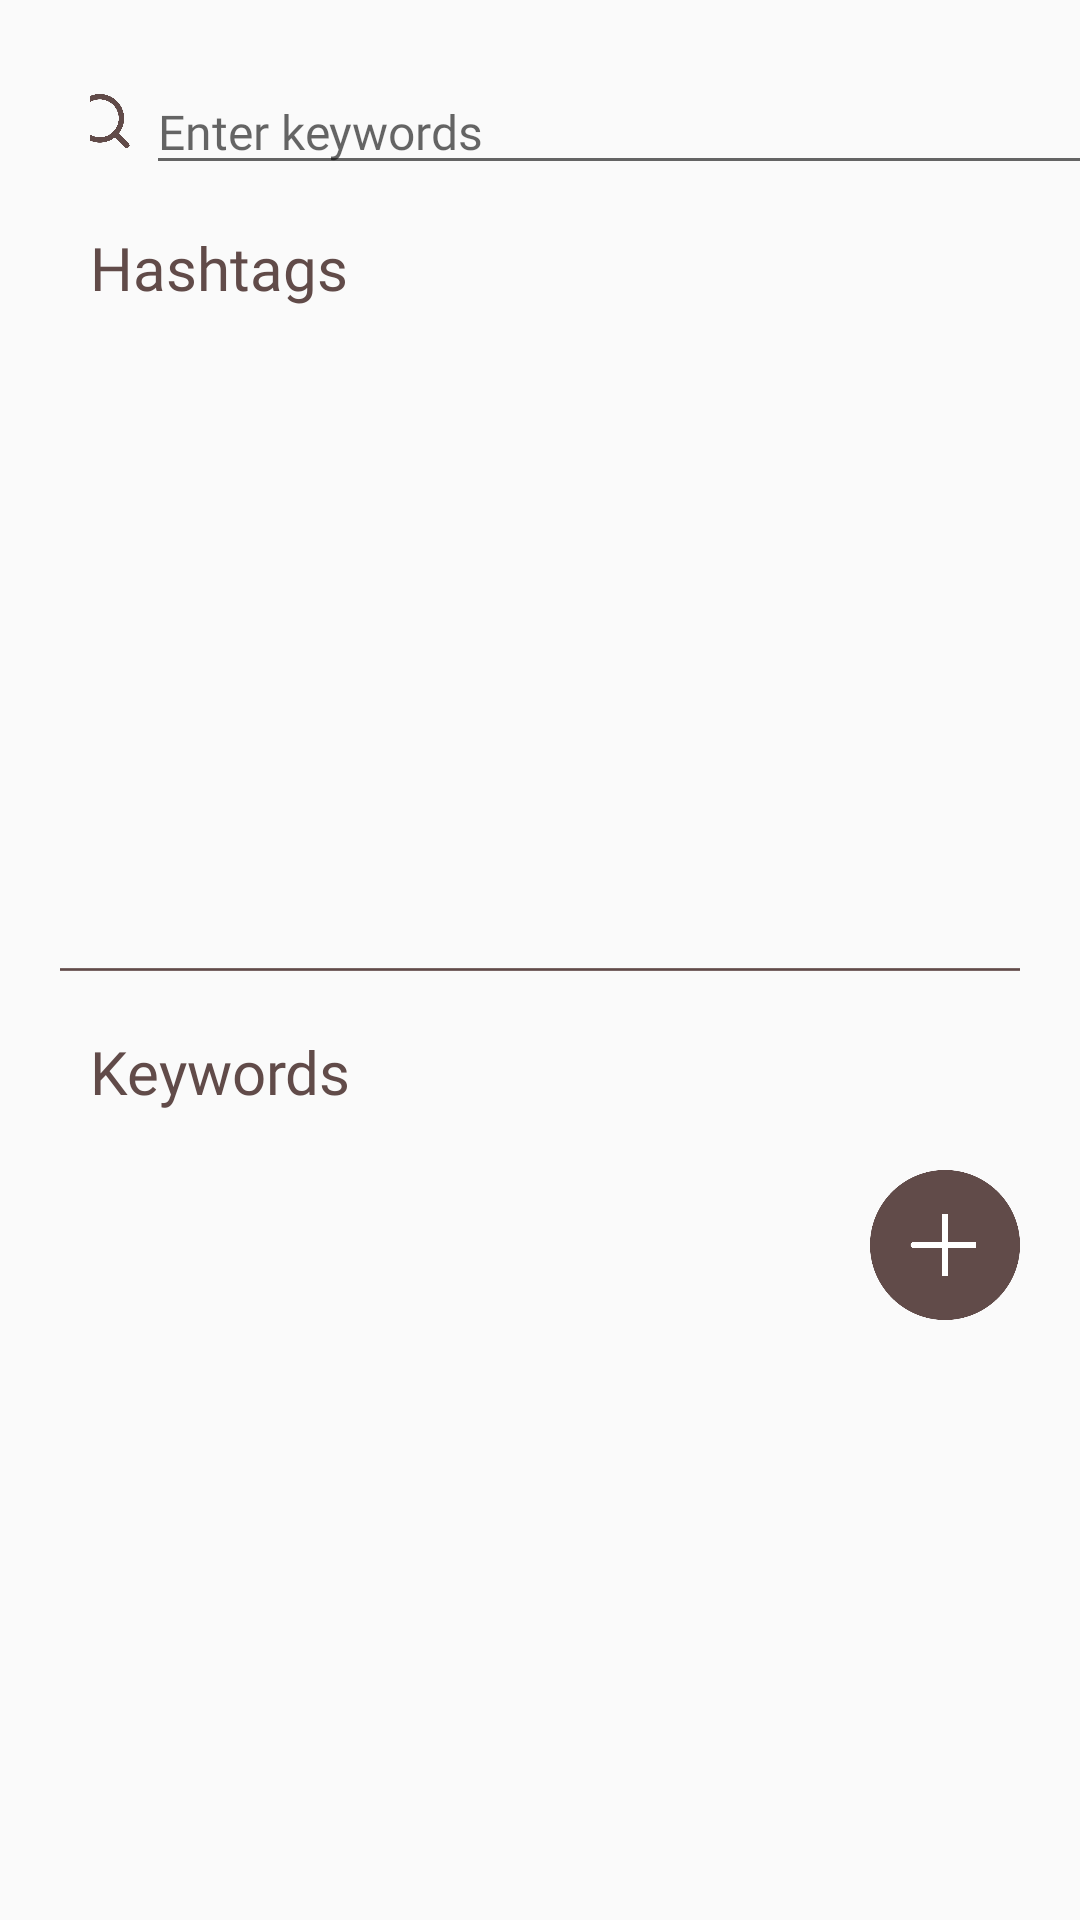

Icon click points for this 1080x1920 phone screenshot, format (x=x, y=y):
plus: (x=945, y=1245)
